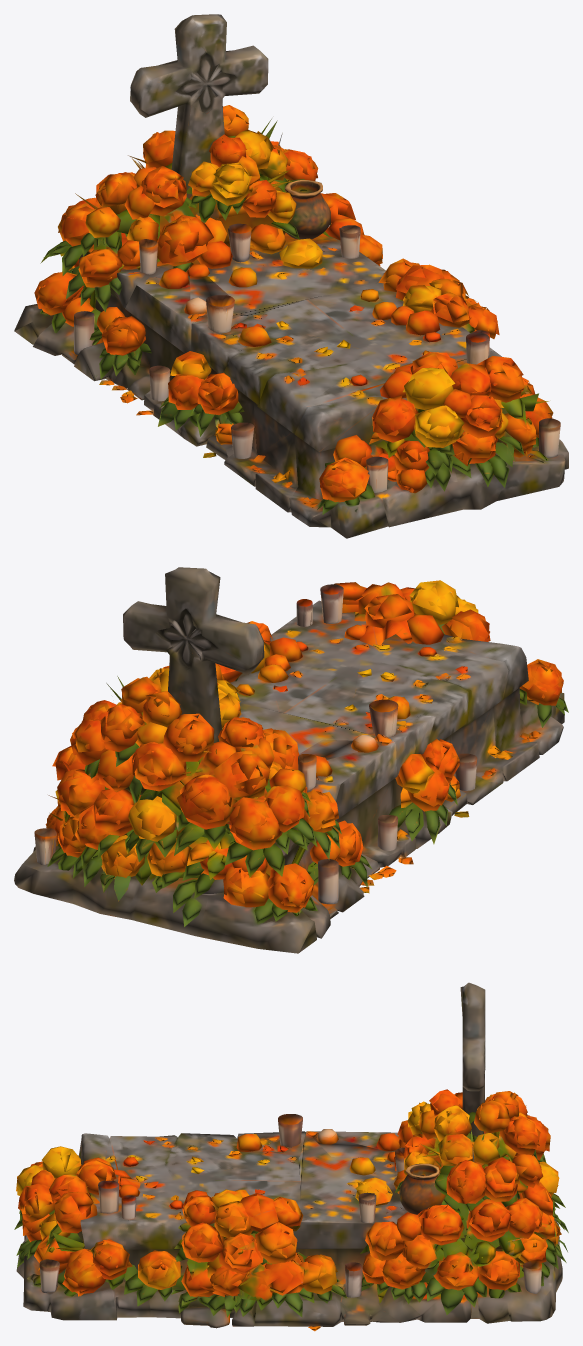
File: Meshy_AI_mexican_cemetery_grave_20261110_texture.obj
3 renders of one model, top to bottom at view 1: azimuth 30°, elevation 25°; view 2: azimuth 150°, elevation 25°; view 3: azimuth 270°, elevation 25°, orthographic. The views are drawn at different scales.
Visible parts, largest first — view 1: Meshy_AI_mexican_cemetery_grave_20261110_texture; view 2: Meshy_AI_mexican_cemetery_grave_20261110_texture; view 3: Meshy_AI_mexican_cemetery_grave_20261110_texture.
Part boxes in pixels (<box>): Meshy_AI_mexican_cemetery_grave_20261110_texture: <box>14,14,568,538</box>; Meshy_AI_mexican_cemetery_grave_20261110_texture: <box>14,567,568,953</box>; Meshy_AI_mexican_cemetery_grave_20261110_texture: <box>14,982,568,1331</box>.
Bounding box in the file's own units: 0.5439 × 0.5234 × 0.9541.
Materials: 1 (1 with a texture image).
